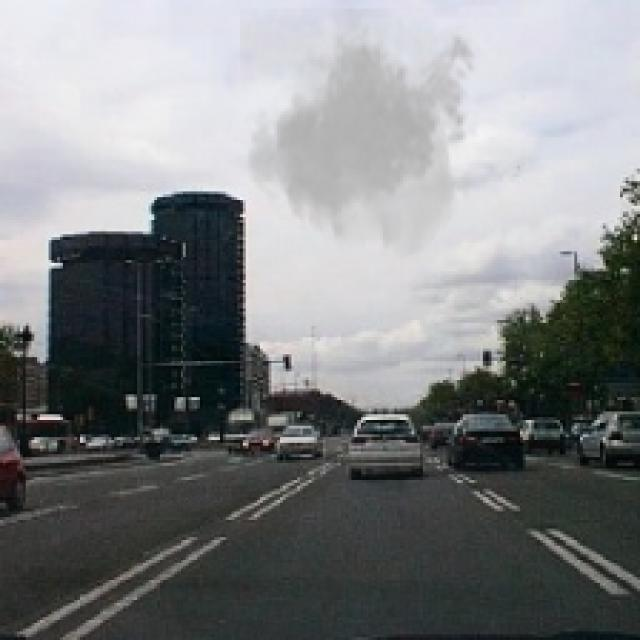Smoke: (240, 8, 483, 263)
